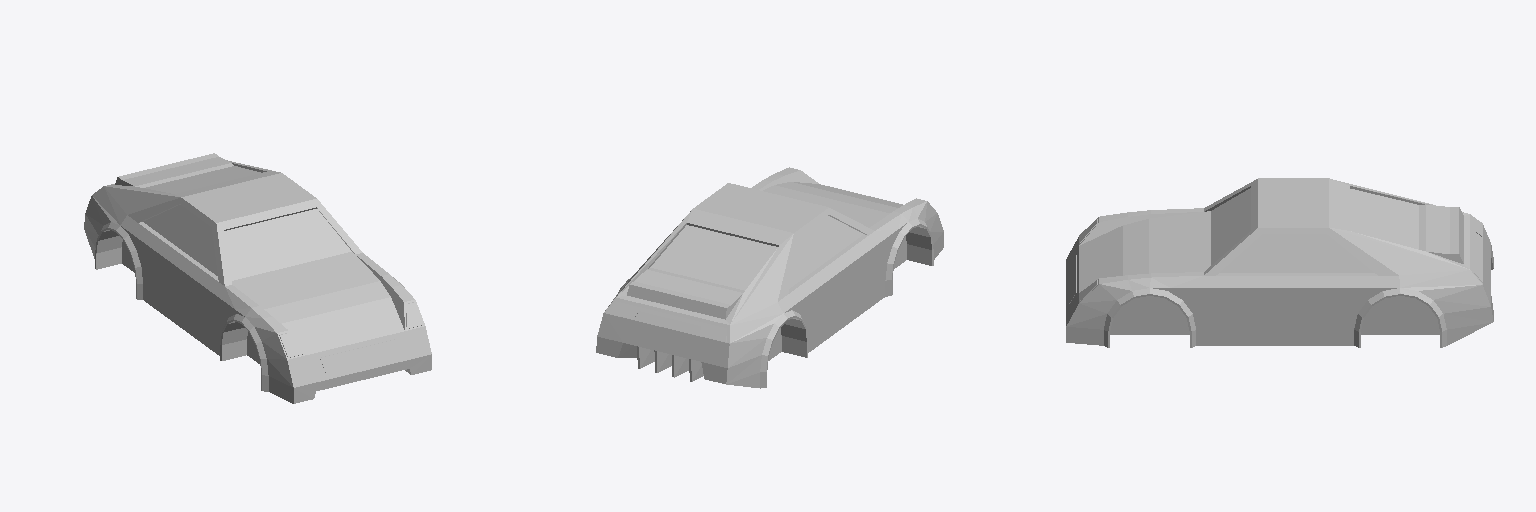
Rendered from car1.obj.
The picture shows the model from 3 angles: view 1: azimuth 30°, elevation 25°; view 2: azimuth 150°, elevation 25°; view 3: azimuth 270°, elevation 25°; orthographic projection.
Parts seen in each view (by area): view 1: car-parsche-sport-blue_Cube.878_carmaterial_blue, car-parsche-sport-blue_Cube.878_windows, car-parsche-sport-blue_Cube.878_metal.black, car-parsche-sport-blue_Cube.878_metal, car-parsche-sport-blue_Cube.878_lights; view 2: car-parsche-sport-blue_Cube.878_carmaterial_blue, car-parsche-sport-blue_Cube.878_windows, car-parsche-sport-blue_Cube.878_metal.black, car-parsche-sport-blue_Cube.878_lights.red; view 3: car-parsche-sport-blue_Cube.878_carmaterial_blue, car-parsche-sport-blue_Cube.878_windows, car-parsche-sport-blue_Cube.878_metal.black.
Part boxes in pixels (x1,y1,x2,y2): car-parsche-sport-blue_Cube.878_carmaterial_blue: (84, 160, 431, 403); car-parsche-sport-blue_Cube.878_windows: (143, 166, 351, 280); car-parsche-sport-blue_Cube.878_metal.black: (115, 153, 410, 374); car-parsche-sport-blue_Cube.878_metal: (320, 339, 396, 373); car-parsche-sport-blue_Cube.878_lights: (279, 302, 423, 357); car-parsche-sport-blue_Cube.878_carmaterial_blue: (596, 167, 943, 388); car-parsche-sport-blue_Cube.878_windows: (650, 216, 863, 290); car-parsche-sport-blue_Cube.878_metal.black: (618, 268, 744, 381); car-parsche-sport-blue_Cube.878_lights.red: (607, 301, 726, 341); car-parsche-sport-blue_Cube.878_carmaterial_blue: (1066, 178, 1493, 347); car-parsche-sport-blue_Cube.878_windows: (1211, 188, 1418, 272); car-parsche-sport-blue_Cube.878_metal.black: (1419, 204, 1493, 269).
Bounding box in the file's own units: 0.9288 × 0.591 × 2.16.